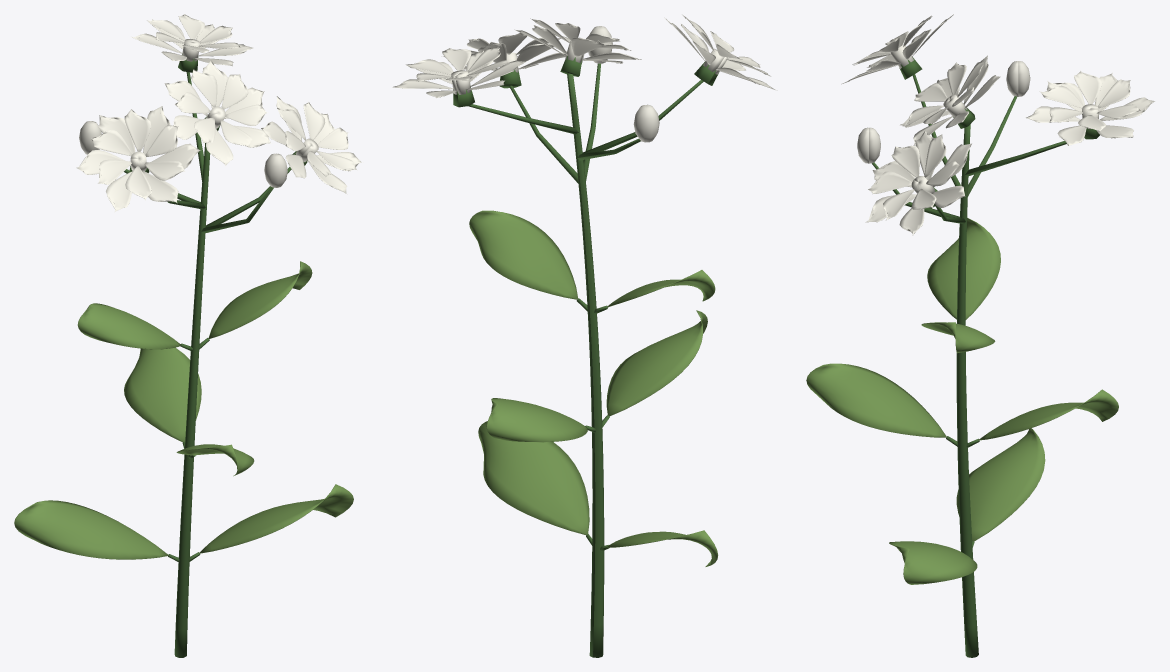
File: jasmine-rare-v2.glb
The picture shows the model from 3 angles, left to right: view 1: azimuth 30°, elevation 25°; view 2: azimuth 150°, elevation 25°; view 3: azimuth 270°, elevation 25°; orthographic projection. The views are drawn at different scales.
Visible parts, largest first — view 1: jasmine-rare-v2-petal, jasmine-rare-v2-leaf, jasmine-rare-v2-stem; view 2: jasmine-rare-v2-leaf, jasmine-rare-v2-petal, jasmine-rare-v2-stem; view 3: jasmine-rare-v2-leaf, jasmine-rare-v2-petal, jasmine-rare-v2-stem.
Boxes of the visible parts, box(x1,y1,x2,y2) form: jasmine-rare-v2-petal: box(76, 14, 363, 212); jasmine-rare-v2-leaf: box(14, 261, 353, 559); jasmine-rare-v2-stem: box(124, 54, 307, 657); jasmine-rare-v2-leaf: box(469, 210, 718, 566); jasmine-rare-v2-petal: box(392, 14, 776, 142); jasmine-rare-v2-stem: box(453, 56, 718, 657); jasmine-rare-v2-leaf: box(806, 218, 1118, 584); jasmine-rare-v2-petal: box(841, 14, 1155, 235); jasmine-rare-v2-stem: box(872, 57, 1099, 657).
Bounding box in the file's own units: 0.8005 × 1.51 × 0.7887.
